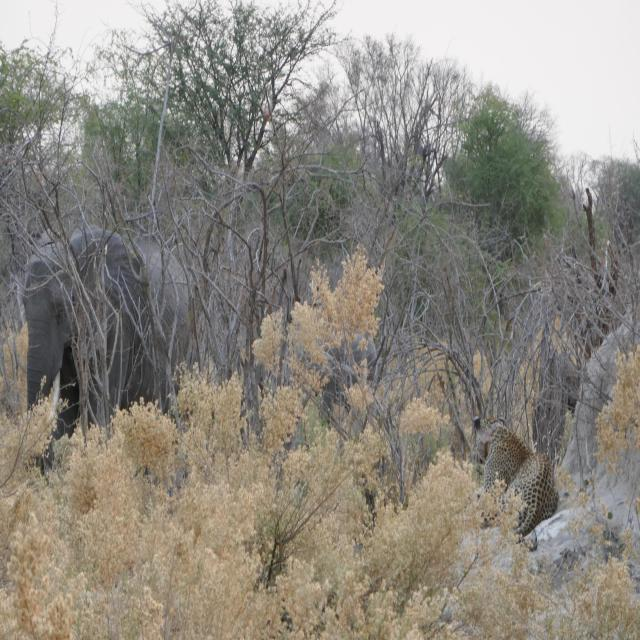Leopard: (468, 417, 562, 554)
